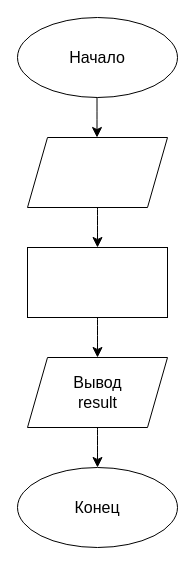
This 195x565 diagram has some shape labels left out. The centre of each missing label's shape, as x and y in pixels:
"result = calculate_series(x)" goes at (x=97, y=282).
"Ввод x" goes at (x=97, y=172).
